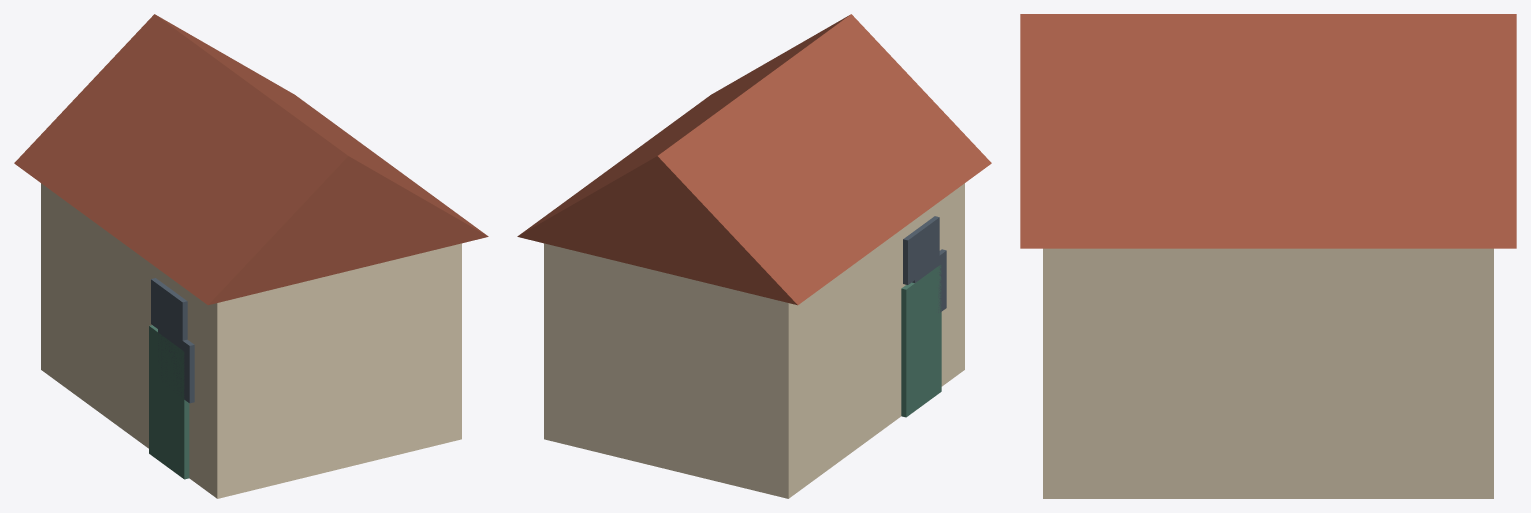
The model's file is SM_House_A.fbx.
3 views of the same model, side by side, from view 1: azimuth 30°, elevation 25°; view 2: azimuth 150°, elevation 25°; view 3: azimuth 270°, elevation 25° (orthographic). The views are drawn at different scales.
Parts seen in each view (by area): view 1: Body, Roof, Door, Window_B, Window_A; view 2: Body, Roof, Door, Window_B, Window_A; view 3: Roof, Body.
Part boxes in pixels (box(x1,y1,x2,y2)): Body: box(41, 183, 461, 498); Roof: box(14, 14, 488, 305); Door: box(149, 325, 189, 479); Window_B: box(151, 278, 187, 346); Window_A: box(158, 323, 194, 403); Body: box(544, 183, 964, 498); Roof: box(517, 14, 991, 305); Door: box(901, 265, 941, 417); Window_B: box(903, 216, 939, 284); Window_A: box(912, 249, 946, 312); Roof: box(1020, 14, 1516, 248); Body: box(1043, 248, 1493, 498).
Bounding box in the file's own units: 4.6 × 5 × 5.5.
